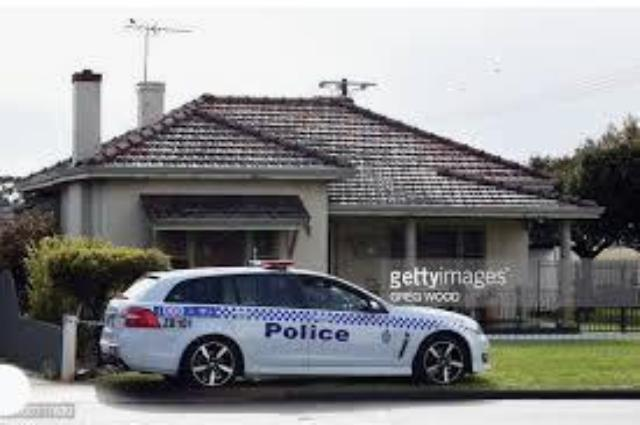police_car: (95, 257, 493, 394)
